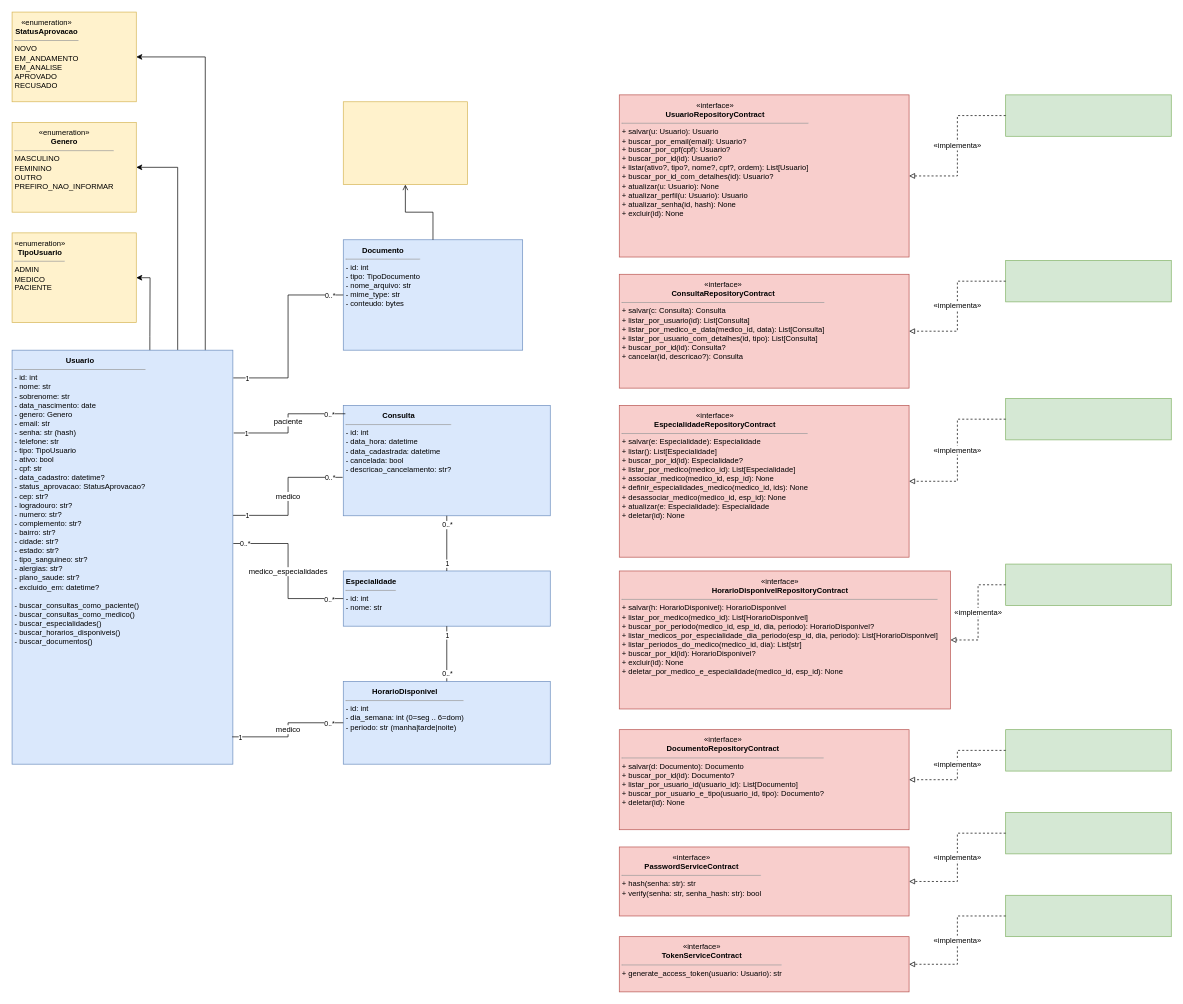
This 1183x1004 diagram has some shape labels left out. Here are the shapes that lost their labels. From the top down, the box of each, then its label:
(1005, 94, 1171, 136): UsuarioRepository
(343, 101, 467, 185): «enumeration» TipoDocumento CRM CURRICULO SOBRE_MIM
(1005, 260, 1171, 302): ConsultaRepository
(1005, 398, 1171, 440): EspecialidadeRepository
(1005, 563, 1171, 605): HorarioDisponivelRepository
(1005, 729, 1171, 771): DocumentoRepository
(1005, 812, 1171, 854): PasswordService (bcrypt)
(1005, 895, 1171, 937): JwtTokenService (Flask-JWT-Extended)
